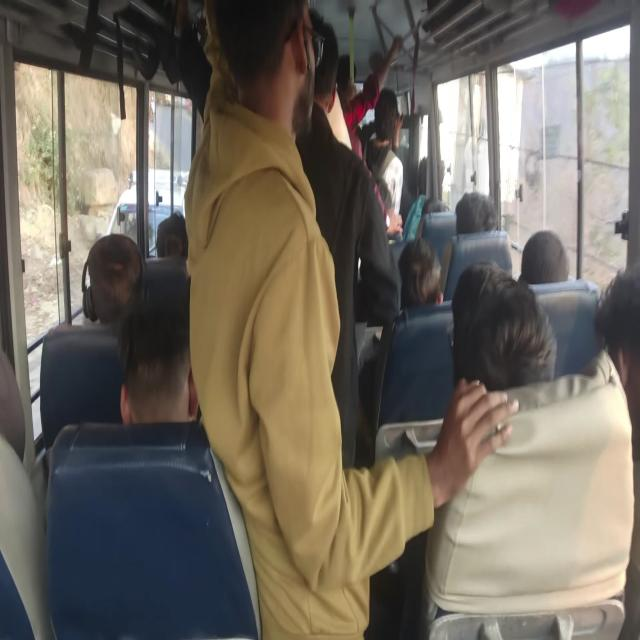person: (215, 9, 320, 148), (456, 265, 558, 401), (588, 276, 640, 432), (130, 331, 196, 429), (88, 242, 144, 313), (398, 235, 443, 309), (519, 229, 571, 286), (454, 191, 500, 236), (368, 95, 402, 153), (314, 49, 336, 129), (155, 211, 188, 259), (342, 64, 356, 102)
